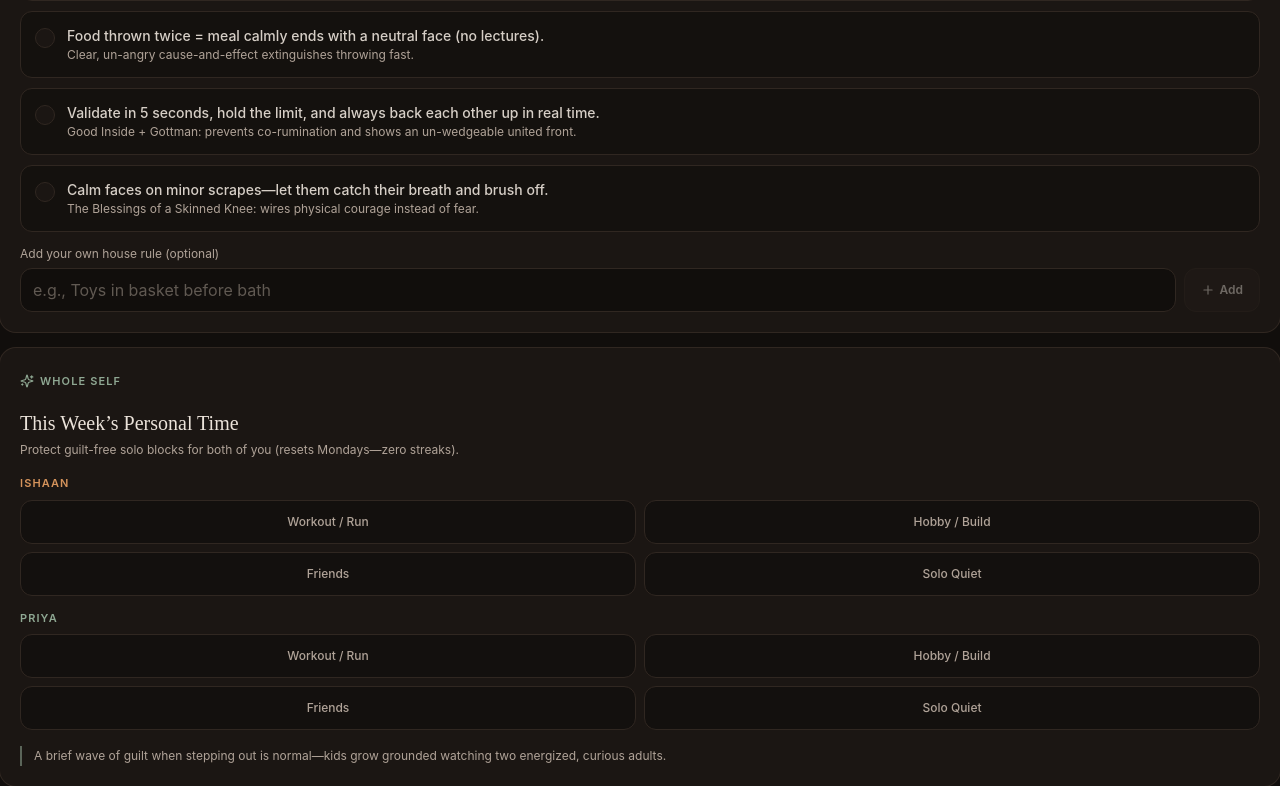
Scenario: ParentsView › tracks weekly Personal Time chips independently for both partners
(page scrolled)
Click the button with aria-label "Workout / Run for Ishaan" at (328, 522), box [20,500,636,544]
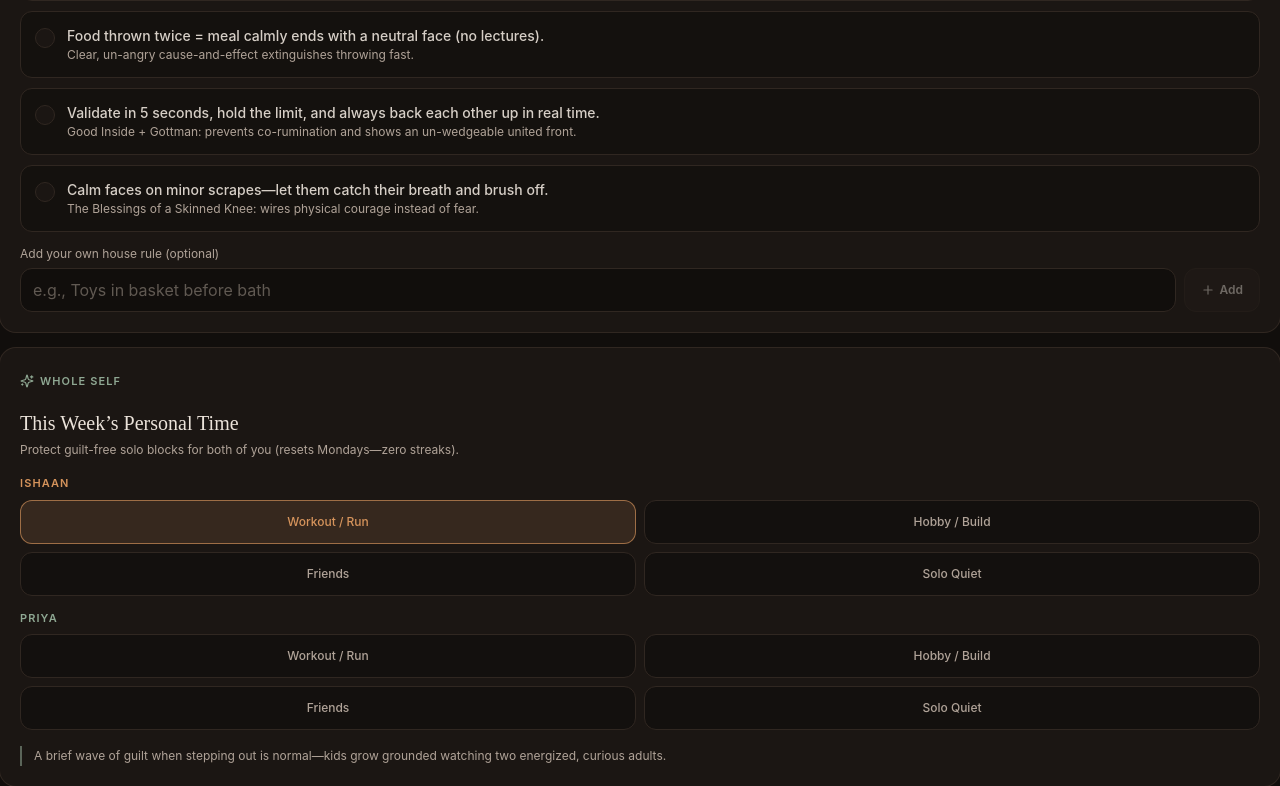
Click the button with aria-label "Hobby / Build for Priya" at (952, 656), box [644,634,1260,678]
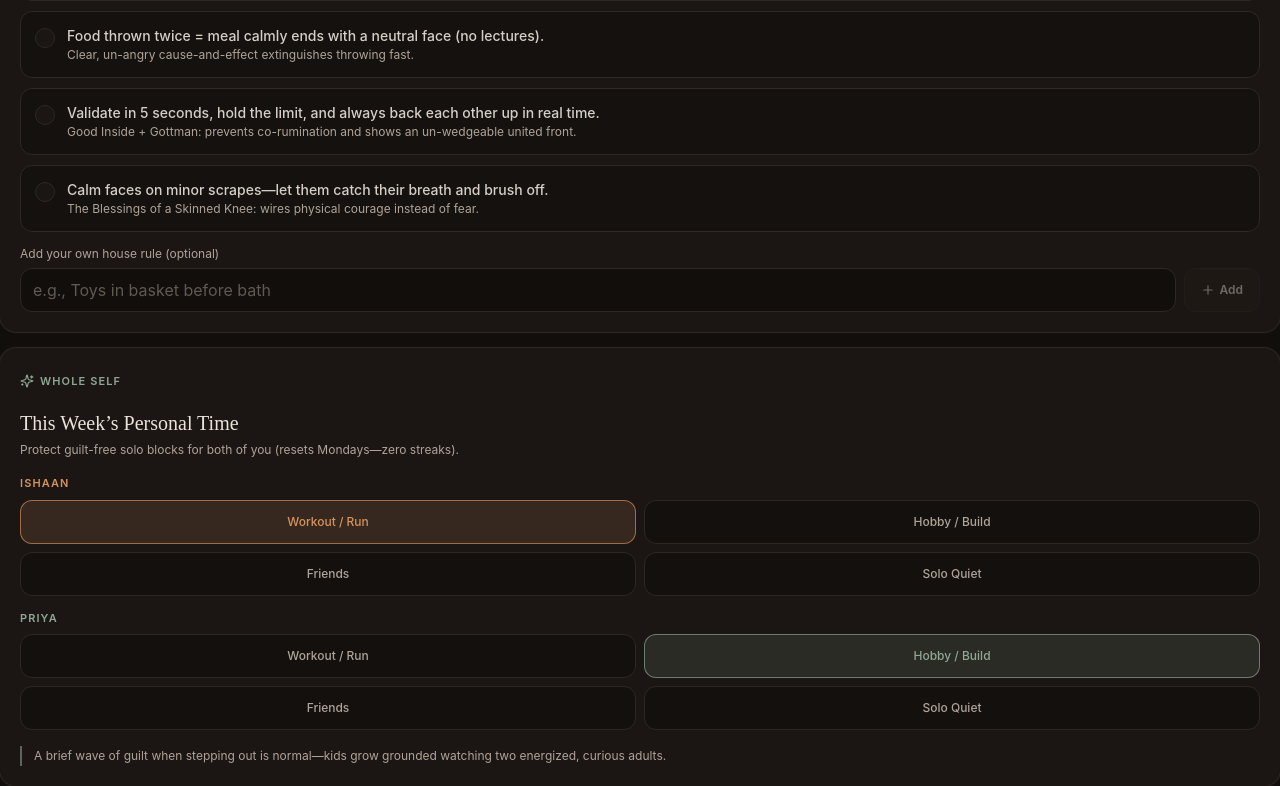
Result: the button with aria-label "Workout / Run for Ishaan" is pressed at [20,500,636,544]
Result: the button with aria-label "Hobby / Build for Priya" is pressed at [644,634,1260,678]
